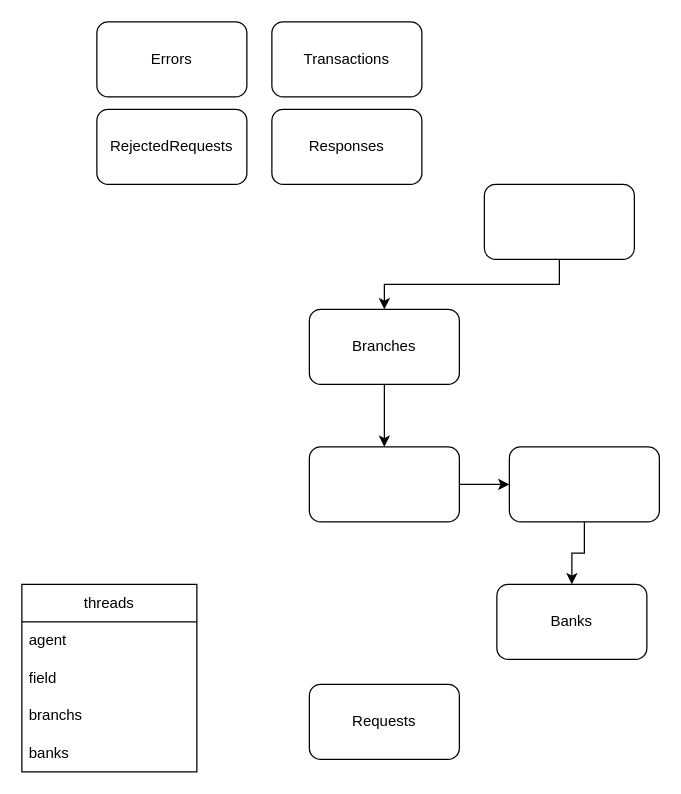
Some shapes in this 681 by 794 pixel diagram are drawn without their labels. The centre of each missing label's shape, as x and y in pixels:
"Agents" goes at point (383, 484).
"Fields" goes at point (583, 484).
"Provices" goes at point (558, 221).
